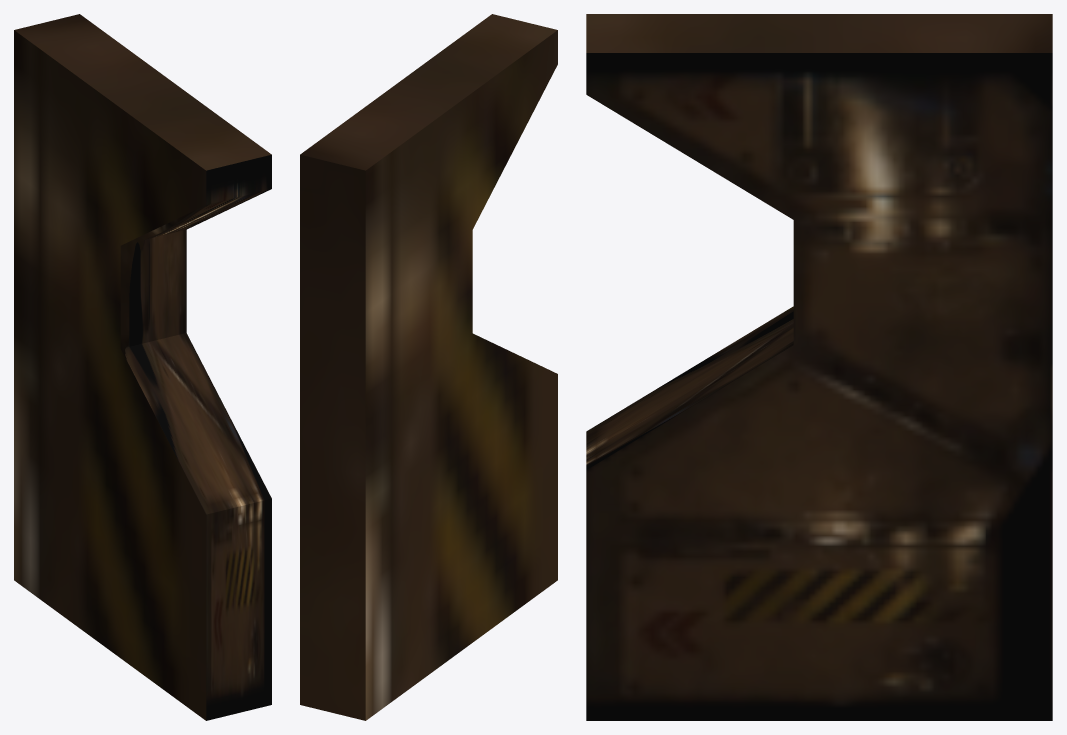
File: DAPPERDOORR.obj
3 renders of one model, left to right at view 1: azimuth 30°, elevation 25°; view 2: azimuth 150°, elevation 25°; view 3: azimuth 270°, elevation 25°, orthographic. The views are drawn at different scales.
Visible parts, largest first — view 1: MODEL_DAPPERDOORR; view 2: MODEL_DAPPERDOORR; view 3: MODEL_DAPPERDOORR.
Part boxes in pixels (x1,y1,x2,y2): MODEL_DAPPERDOORR: (14, 14, 271, 720); MODEL_DAPPERDOORR: (300, 14, 557, 720); MODEL_DAPPERDOORR: (586, 14, 1052, 720).
Size of the model in its own units: 16 by 128 by 81.
